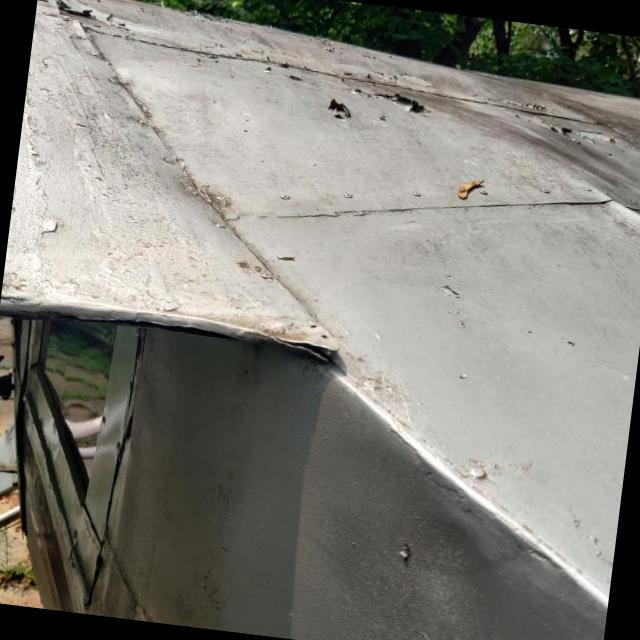Missing Fastener: (306, 321, 330, 344)
